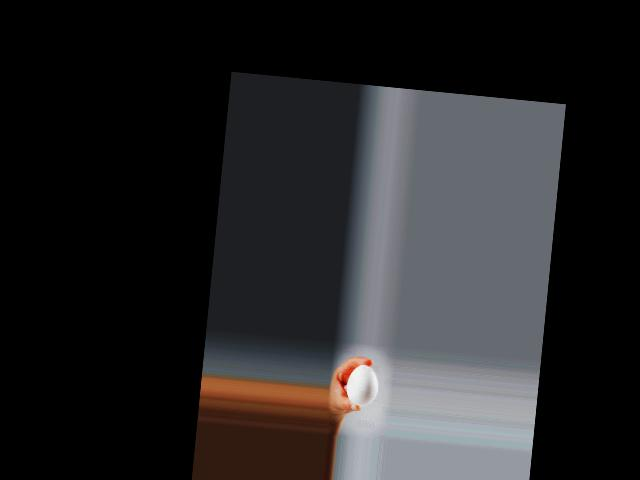egg: (344, 363, 379, 406)
